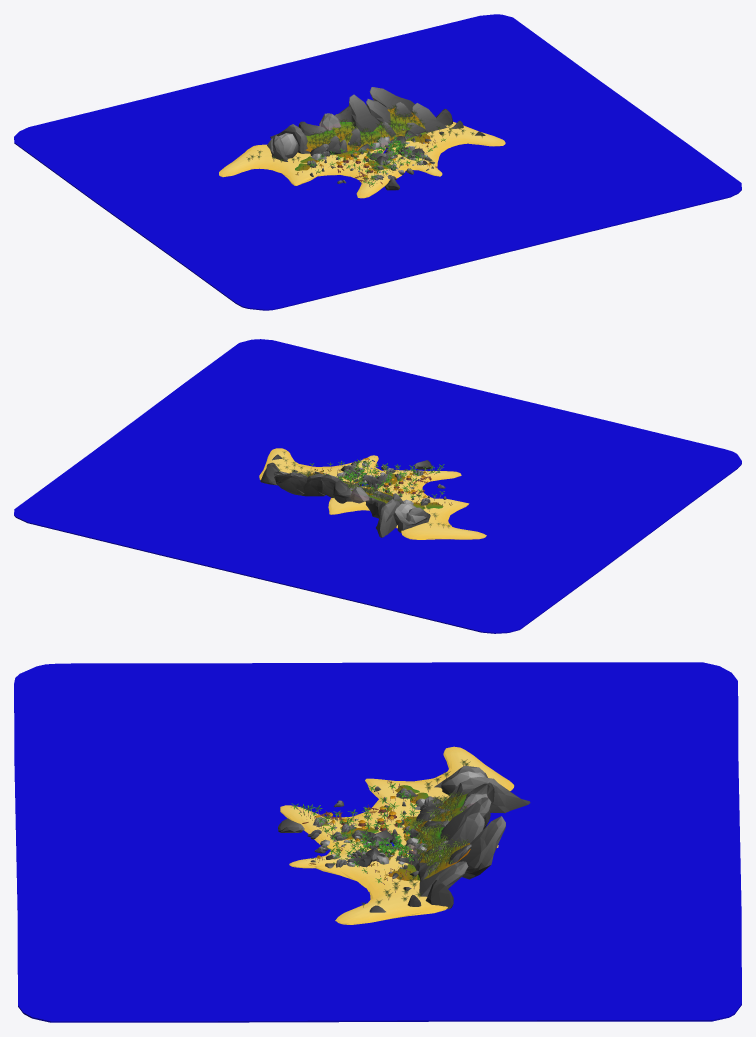
The model's file is tropicalisland1.glb.
3 views of the same model, one above another, from view 1: azimuth 30°, elevation 25°; view 2: azimuth 150°, elevation 25°; view 3: azimuth 270°, elevation 25° (orthographic). The views are drawn at different scales.
Parts seen in each view (by area): view 1: Cube.001, BeachPart_U__6_, BeachPart_U__3_, BeachPart_U__2_, Rock__13_, Rock__22_, Rock__24_; view 2: Cube.001, BeachPart_U__6_, BeachPart_U__2_, BeachPart_U__3_, Rock__44_, Rock__22_; view 3: Cube.001, BeachPart_U__3_, BeachPart_U__6_, BeachPart_U__2_, Rock__22_, Rock__44_, Rock__24_, Rock__23_, Rock__13_.
Boxes of the visible parts, x1=… form: Cube.001: x1=14, y1=14, x2=741, y2=310; BeachPart_U__6_: x1=219, y1=144, x2=328, y2=185; BeachPart_U__3_: x1=392, y1=122, x2=505, y2=166; BeachPart_U__2_: x1=318, y1=154, x2=405, y2=198; Rock__13_: x1=349, y1=94, x2=381, y2=132; Rock__22_: x1=369, y1=87, x2=414, y2=112; Rock__24_: x1=412, y1=103, x2=447, y2=132; Cube.001: x1=14, y1=339, x2=741, y2=633; BeachPart_U__6_: x1=401, y1=497, x2=486, y2=539; BeachPart_U__2_: x1=377, y1=470, x2=461, y2=500; BeachPart_U__3_: x1=259, y1=448, x2=365, y2=484; Rock__44_: x1=376, y1=499, x2=400, y2=537; Rock__22_: x1=274, y1=473, x2=307, y2=495; Cube.001: x1=14, y1=662, x2=741, y2=1022; BeachPart_U__3_: x1=315, y1=849, x2=447, y2=924; BeachPart_U__6_: x1=365, y1=746, x2=514, y2=806; BeachPart_U__2_: x1=280, y1=799, x2=420, y2=849; Rock__22_: x1=458, y1=816, x2=505, y2=879; Rock__44_: x1=449, y1=777, x2=530, y2=813; Rock__24_: x1=419, y1=861, x2=468, y2=896; Rock__23_: x1=443, y1=812, x2=484, y2=849; Rock__13_: x1=440, y1=797, x2=491, y2=840.
Bounding box in the file's own units: 1062 × 98.17 × 910.
Materials: 4 (3 with a texture image).
